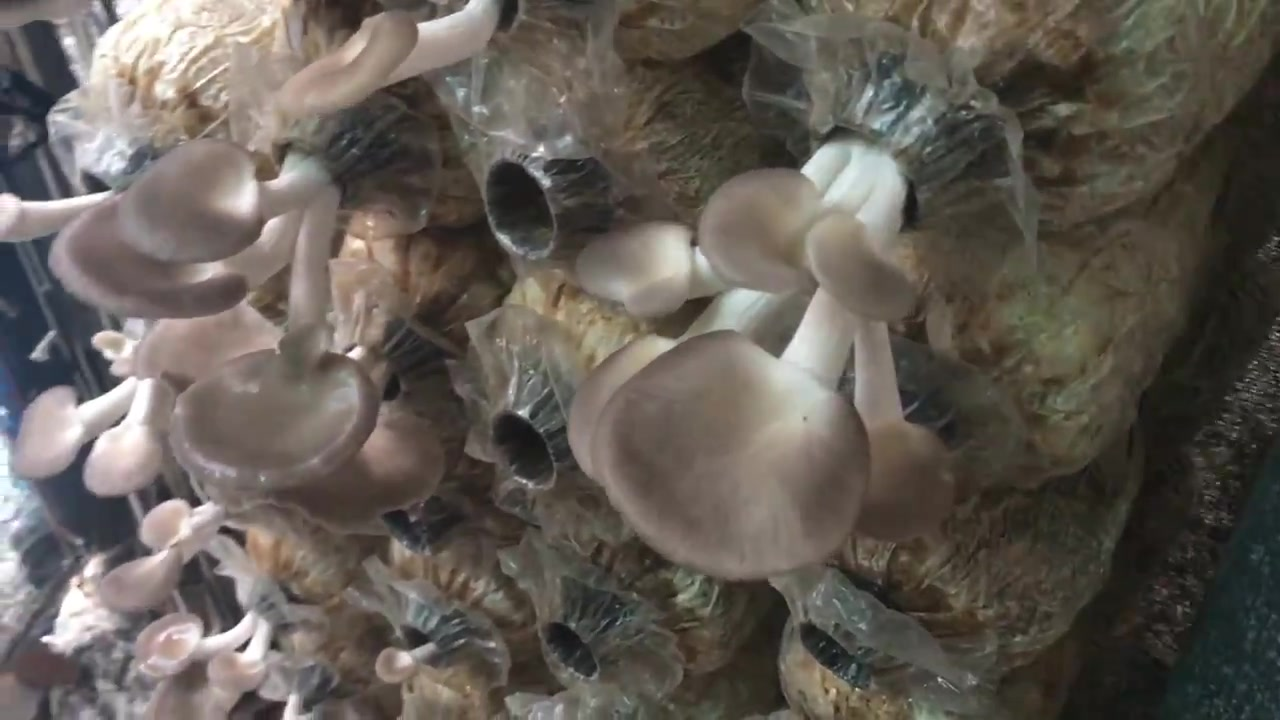nam: (564, 70, 959, 580), (46, 117, 384, 488), (285, 1, 527, 120), (13, 364, 168, 491), (136, 573, 298, 692), (99, 493, 238, 613), (377, 602, 464, 684)
